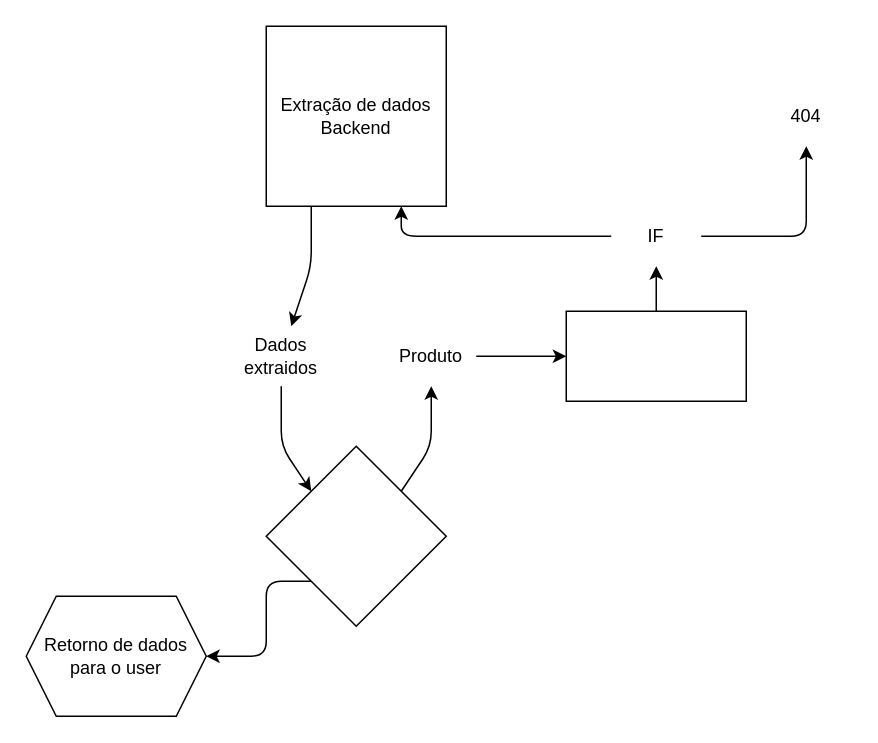
Image size: 878x743. Some labels were removed from this diagram. The shapes that lost their labels are listed below. From the top down, each one's box as (x1, y1, x2, y2) in pixels, then its label:
(565, 310, 746, 401): Entrada de dados
(265, 445, 446, 626): Extensão Frontend
